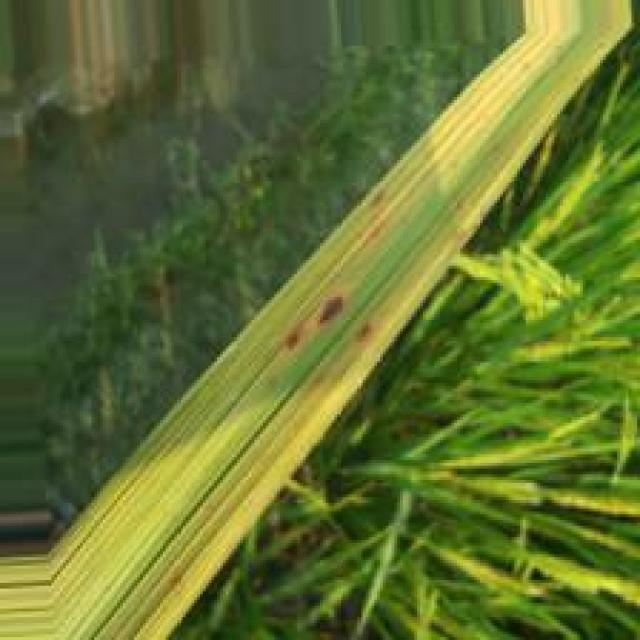Brown_Spot: (320, 297, 342, 330), (286, 336, 301, 348), (360, 326, 369, 339)
